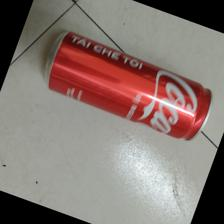Coca: (43, 31, 215, 144)
